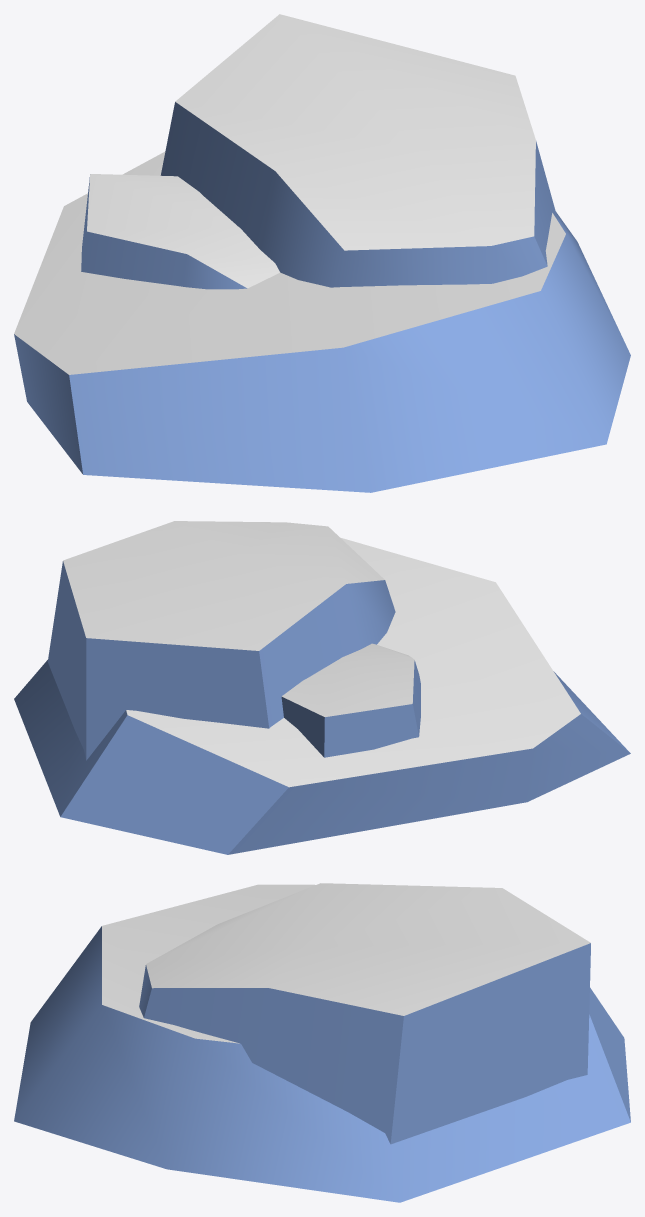
File: SM_Obstacle_02.fbx
The picture shows the model from 3 angles, top to bottom: view 1: azimuth 30°, elevation 25°; view 2: azimuth 150°, elevation 25°; view 3: azimuth 270°, elevation 25°; orthographic projection. The views are drawn at different scales.
Visible parts, largest first — view 1: Cube.085; view 2: Cube.085; view 3: Cube.085.
Boxes of the visible parts, box(x1,y1,x2,y2) form: Cube.085: box(14, 14, 630, 492); Cube.085: box(14, 521, 630, 854); Cube.085: box(14, 883, 630, 1202).
Size of the model in its own units: 12.6 by 3.88 by 12.31.
